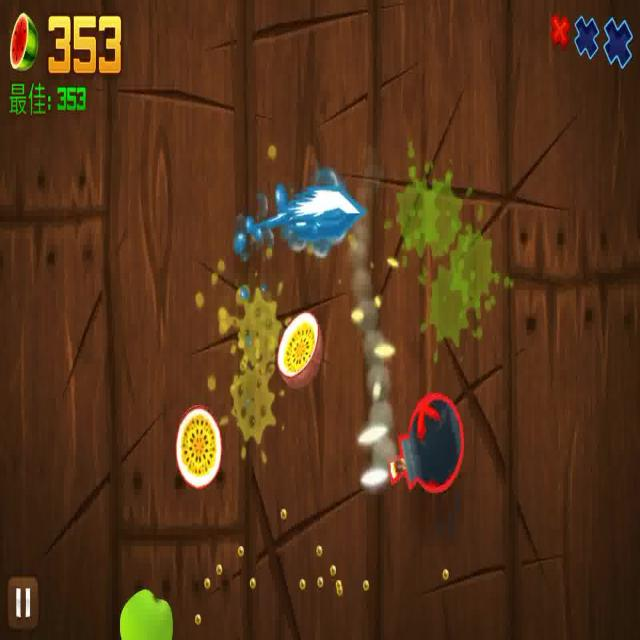bomb: (388, 389, 468, 498)
fruit: (175, 407, 224, 490), (273, 310, 326, 384), (119, 582, 173, 640)
